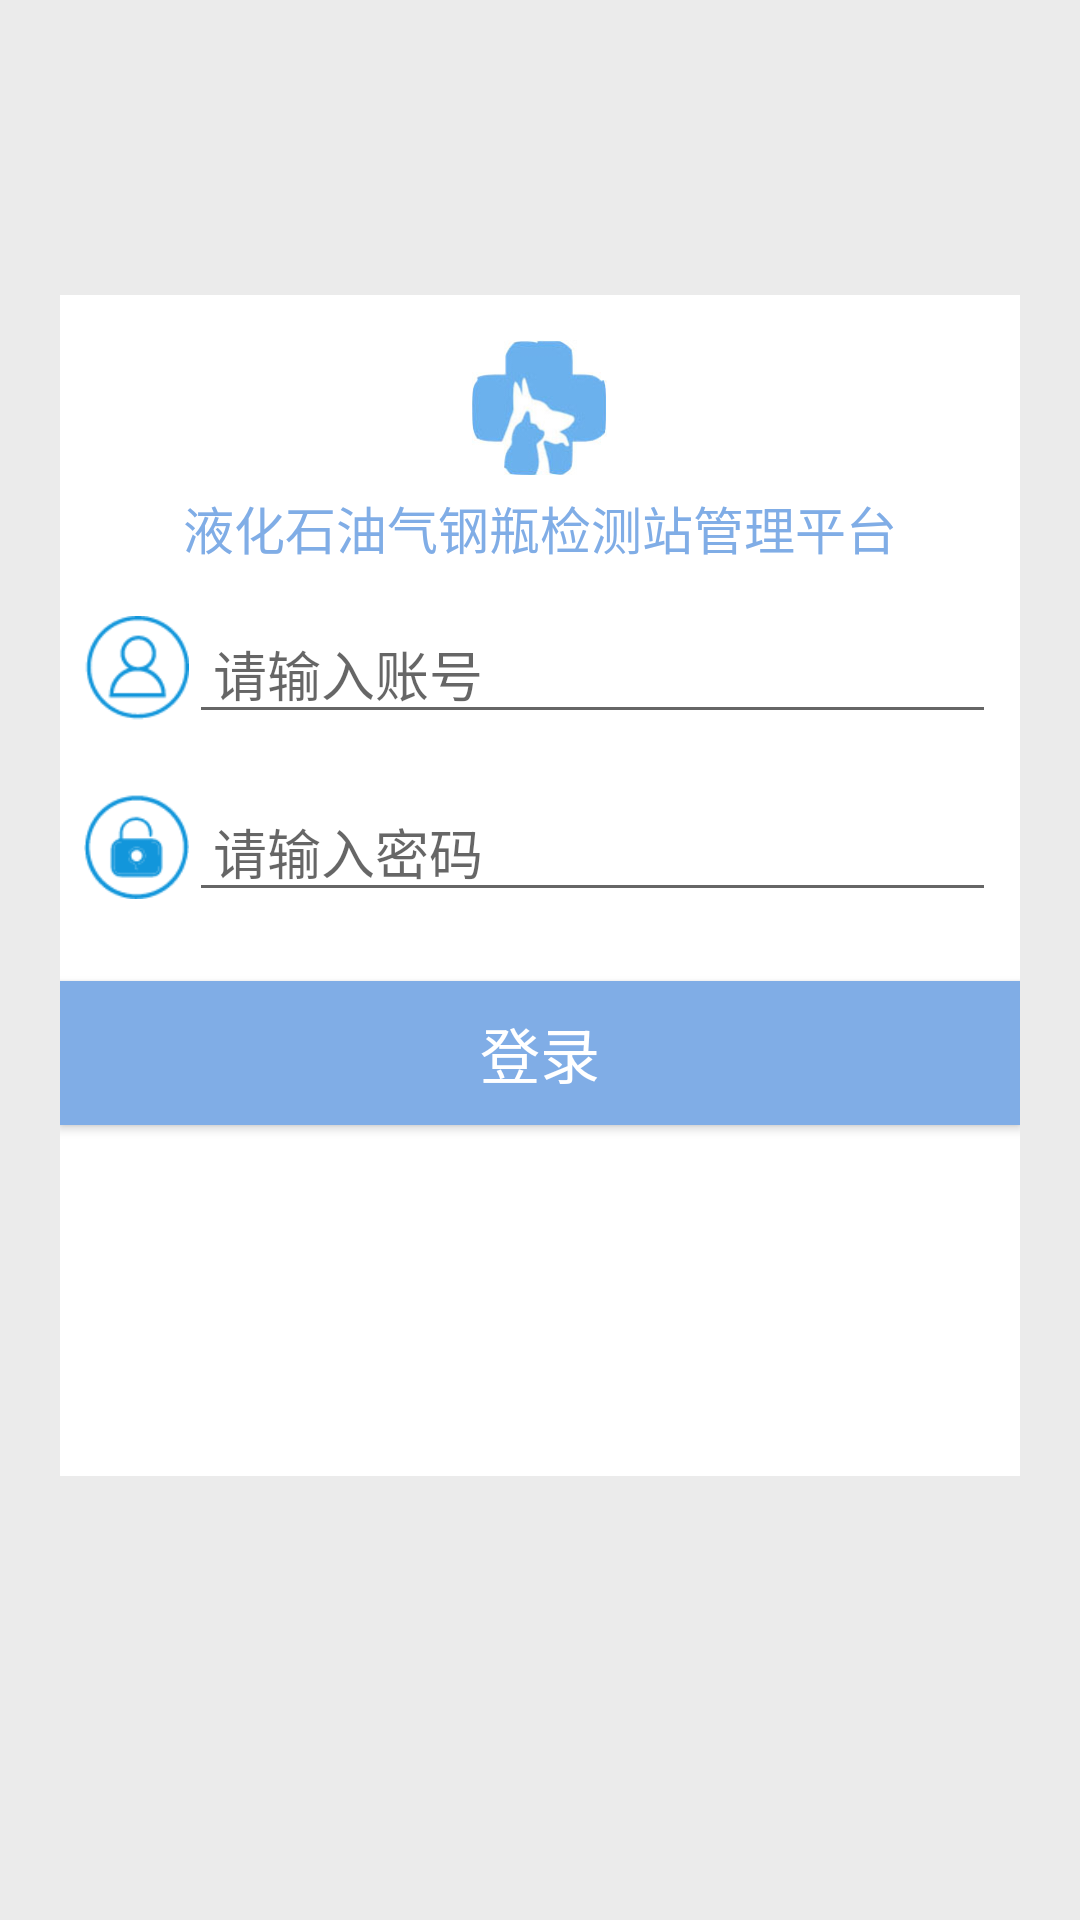

Where to tap for icons on this 1080 x 1920 app screen, as (x,y):
user account: (137,668)
user pwd: (136,847)
